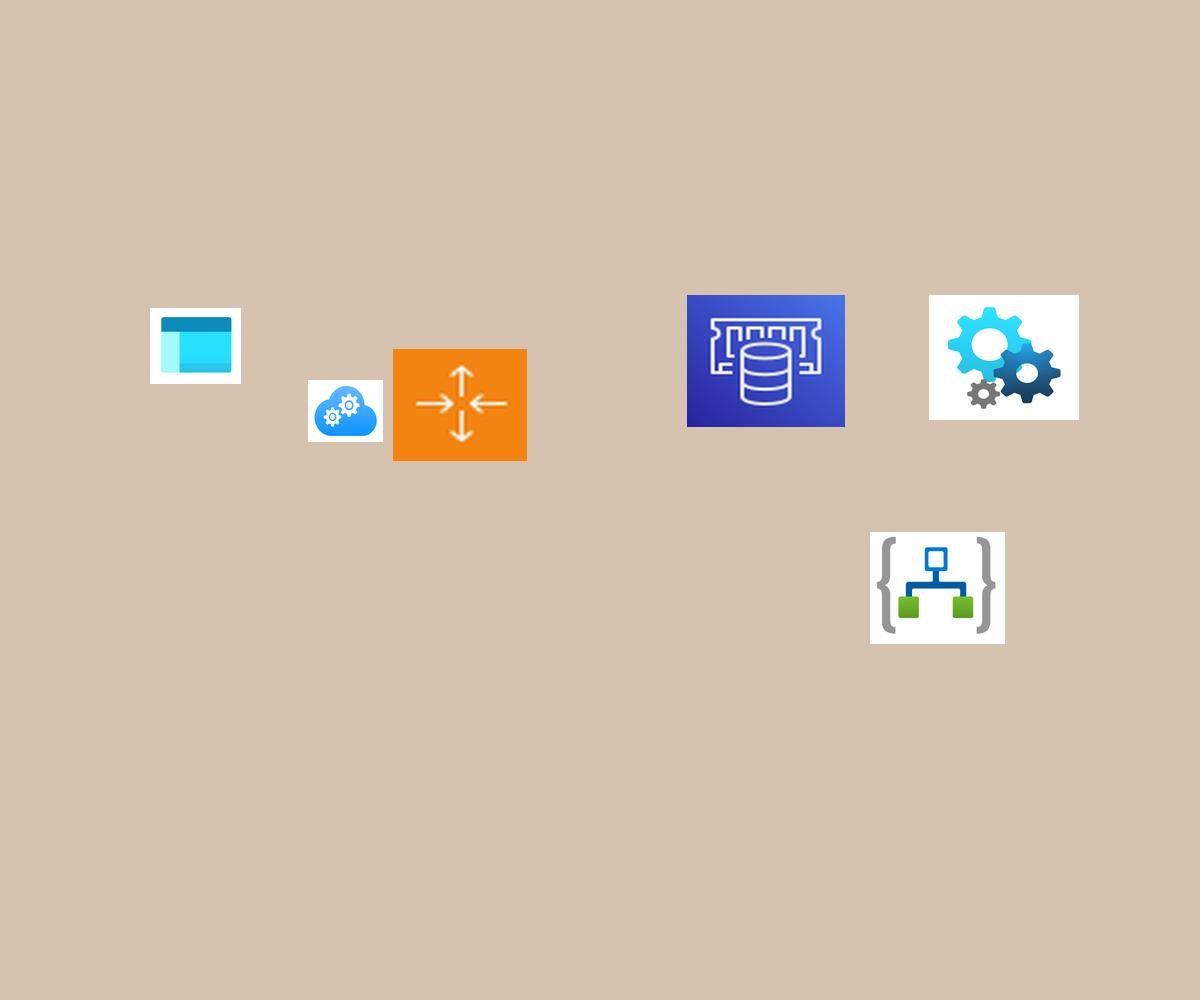AWS-ElastiCache: (687, 295, 845, 427)
AWS-Scaling-group: (393, 349, 527, 461)
Azure_api: (929, 295, 1079, 420)
Azure_cloud_services: (308, 380, 383, 442)
Azure_integration-204-Logic-Apps: (870, 532, 1005, 644)
Azure_management-portal: (150, 308, 241, 384)
